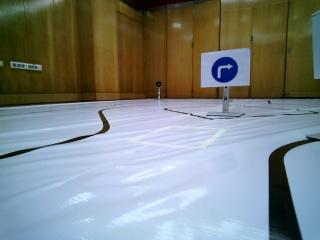right: (206, 56, 246, 84)
